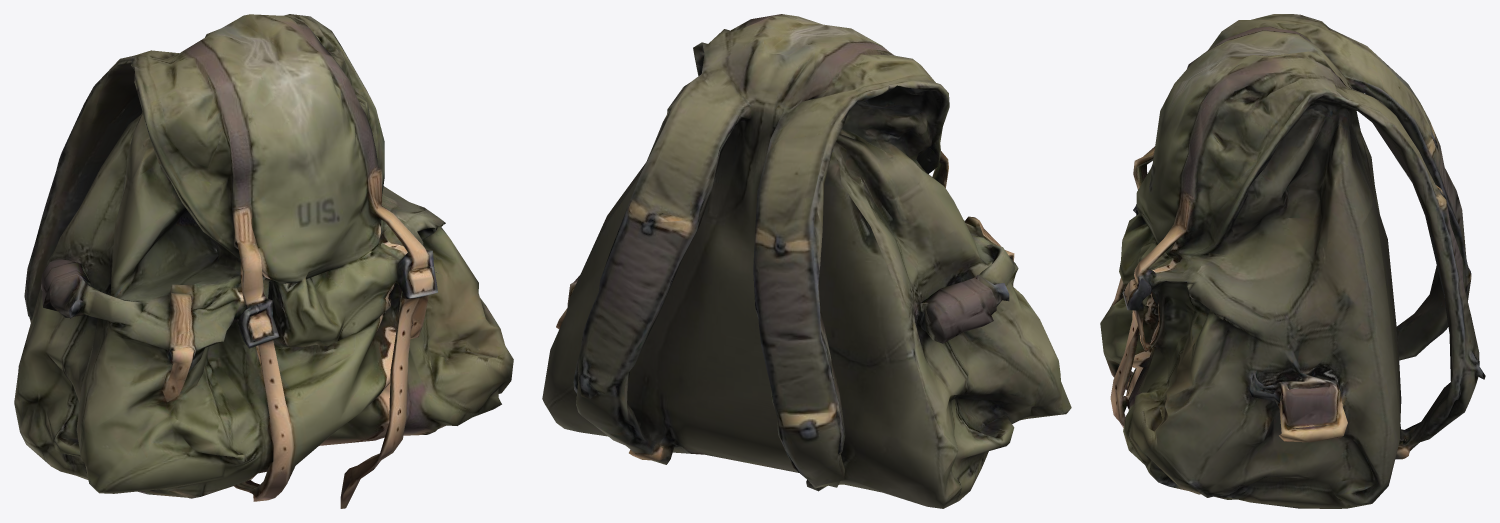
The model's file is pack2.glb.
The picture shows the model from 3 angles, left to right: view 1: azimuth 30°, elevation 25°; view 2: azimuth 150°, elevation 25°; view 3: azimuth 270°, elevation 25°; orthographic projection. The views are drawn at different scales.
Parts seen in each view (by area): view 1: prop; view 2: prop; view 3: prop.
Part boxes in pixels (bbox=[...]): prop: bbox=[14, 14, 513, 508]; prop: bbox=[542, 14, 1071, 508]; prop: bbox=[1100, 14, 1485, 508].
Size of the model in its own units: 1.9 by 1.9 by 1.58.
1 material, 1 textured.
